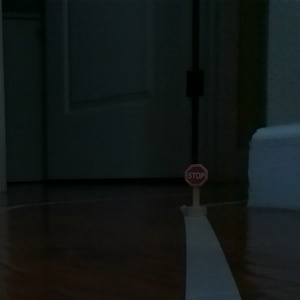stop sign: (182, 162, 211, 219)
